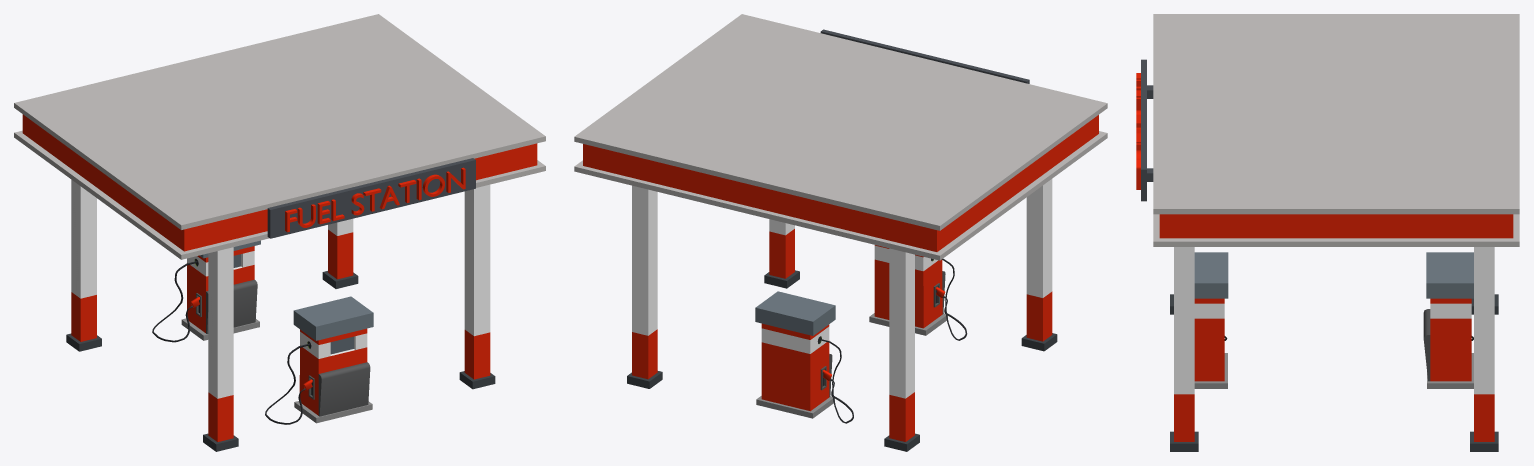
The model's file is Fuel Station_1.fbx.
The picture shows the model from 3 angles, left to right: view 1: azimuth 30°, elevation 25°; view 2: azimuth 150°, elevation 25°; view 3: azimuth 270°, elevation 25°; orthographic projection. The views are drawn at different scales.
Parts seen in each view (by area): view 1: Fuel Station_1; view 2: Fuel Station_1; view 3: Fuel Station_1.
Boxes of the visible parts, box(x1,y1,x2,y2) form: Fuel Station_1: box(14, 14, 545, 451); Fuel Station_1: box(574, 14, 1107, 451); Fuel Station_1: box(1136, 14, 1519, 451).
Bounding box in the file's own units: 1324 × 844 × 1100.
